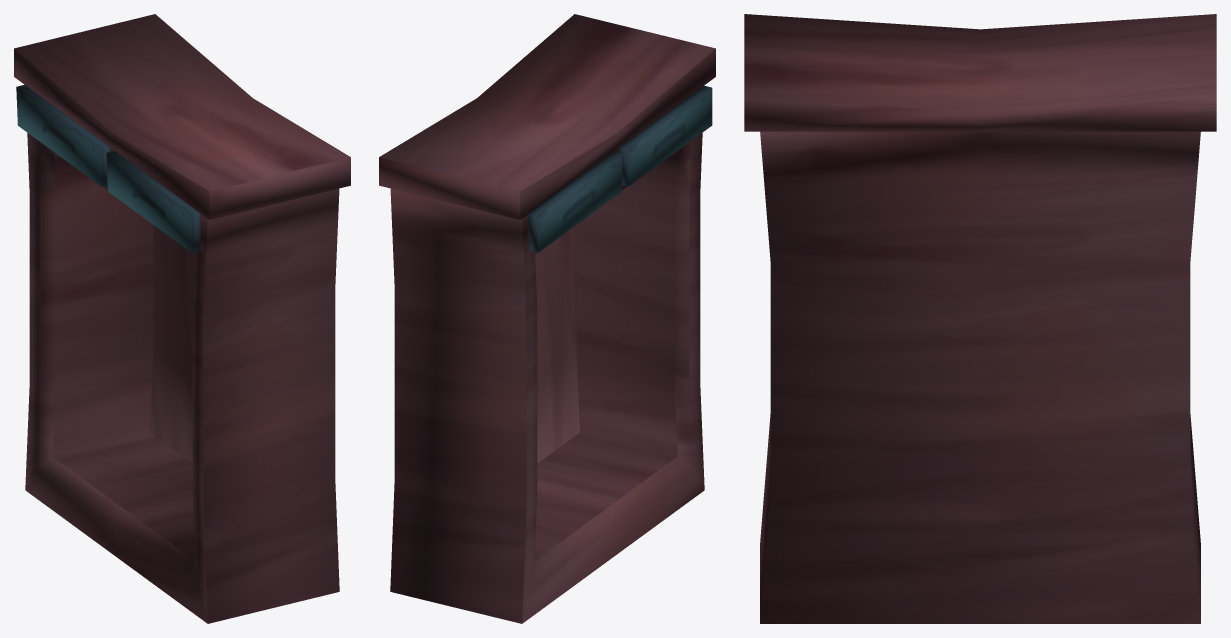
Rendered from Estante.fbx.
The picture shows the model from 3 angles, left to right: view 1: azimuth 30°, elevation 25°; view 2: azimuth 150°, elevation 25°; view 3: azimuth 270°, elevation 25°; orthographic projection. The views are drawn at different scales.
Visible parts, largest first — view 1: Estante; view 2: Estante; view 3: Estante.
Boxes of the visible parts, <box> form: Estante: <box>14,14,350,623</box>; Estante: <box>379,14,715,623</box>; Estante: <box>744,14,1216,623</box>.
Size of the model in its own units: 89.68 by 205 by 253.
